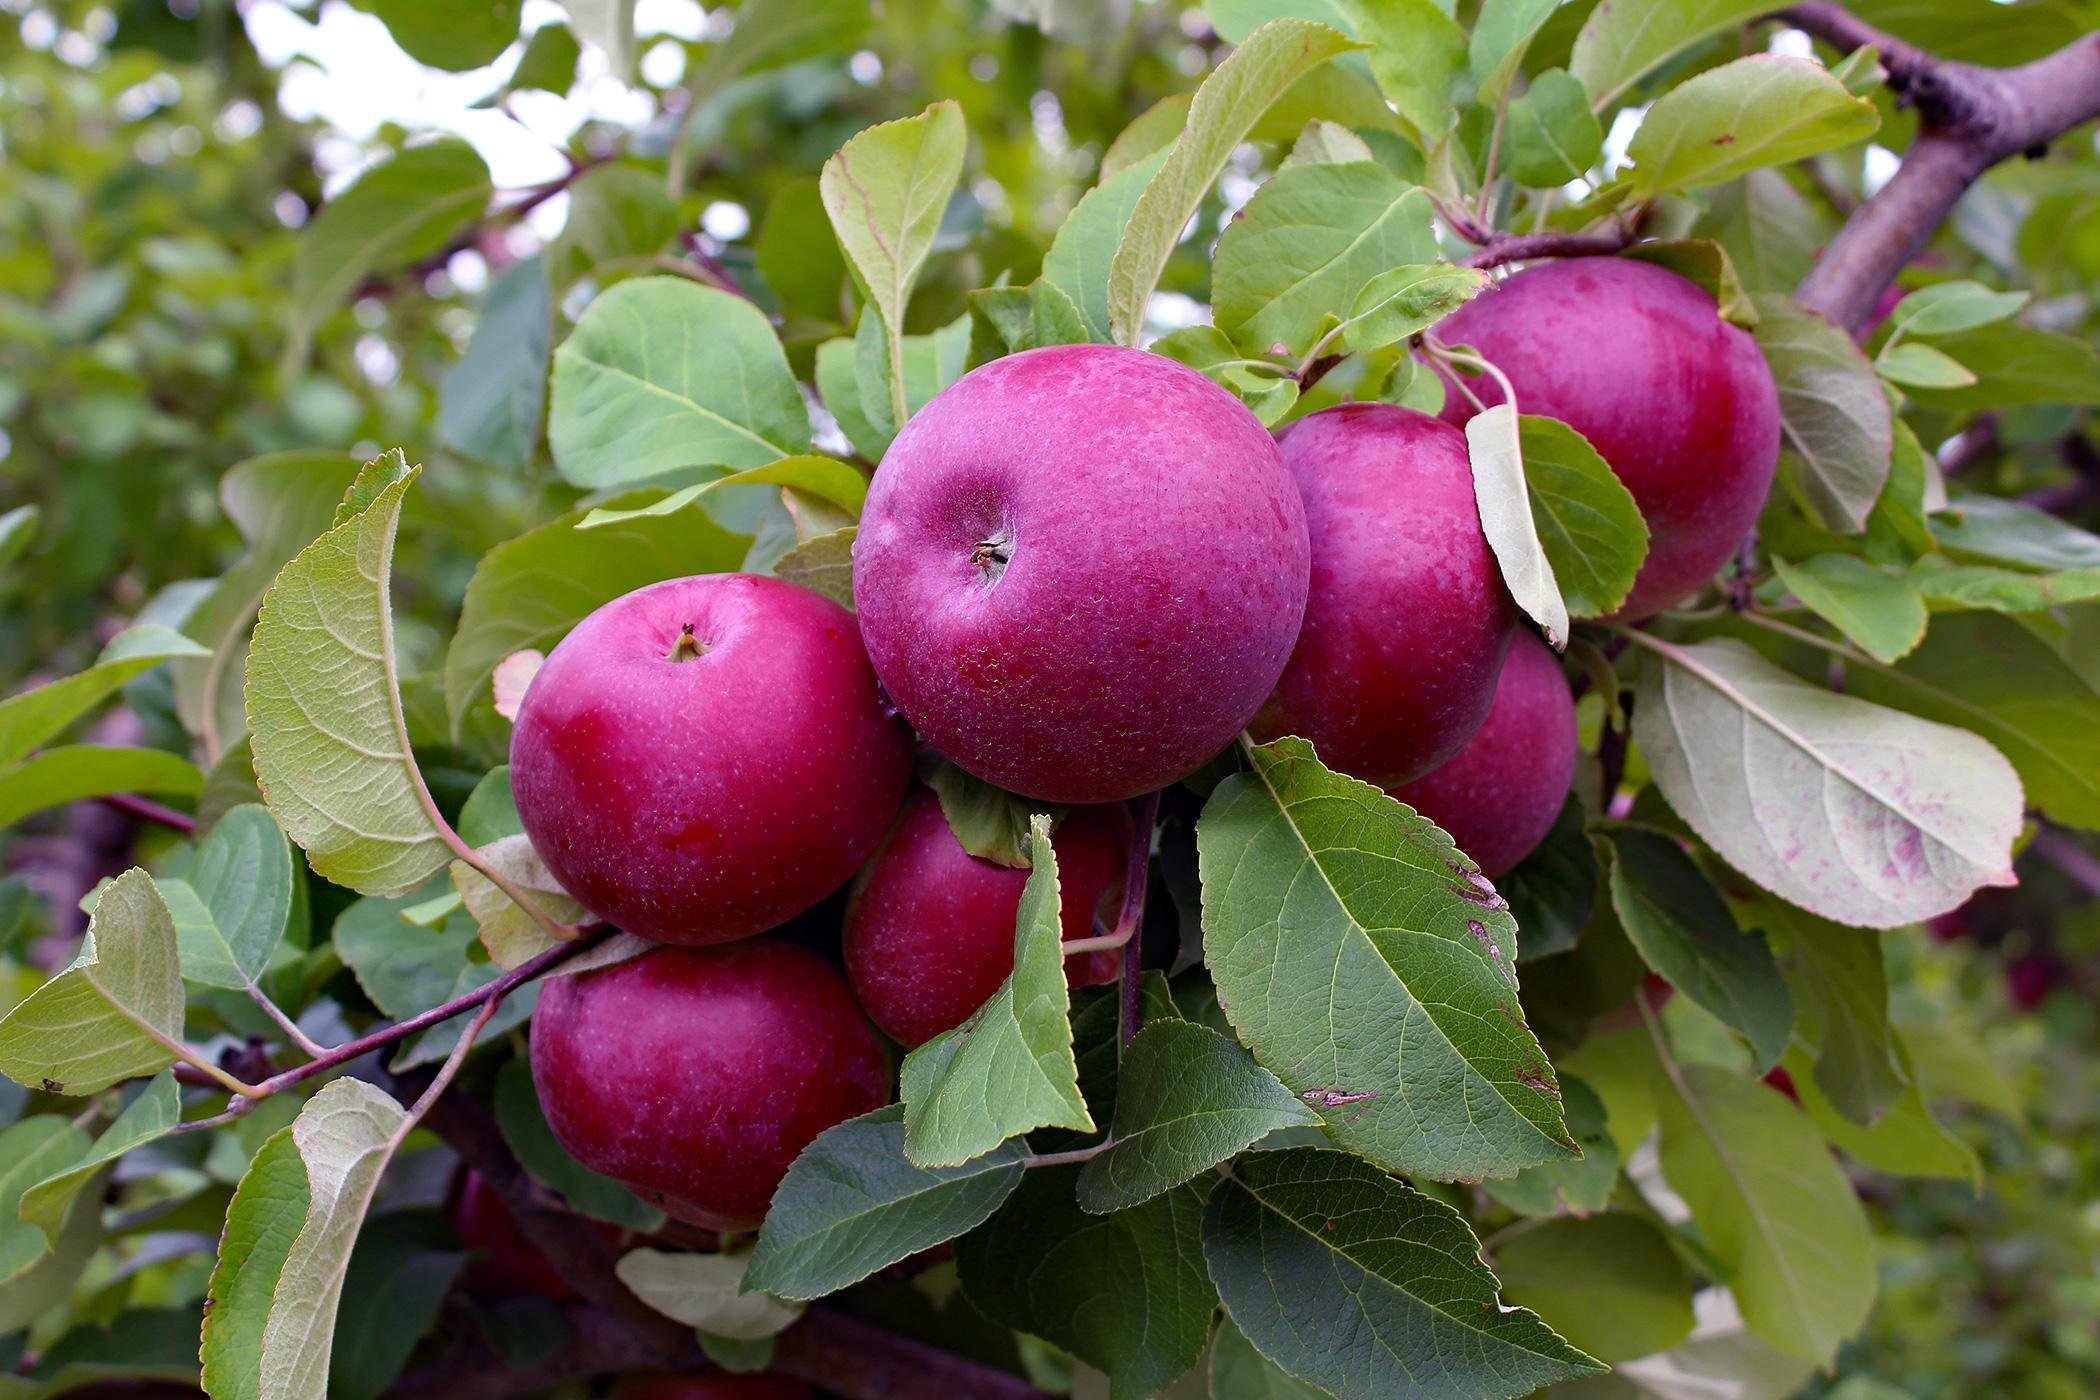apple: (834, 352, 1295, 798), (498, 569, 909, 956), (1261, 395, 1544, 825), (1417, 248, 1777, 583), (523, 931, 894, 1227), (844, 791, 1036, 1044)
